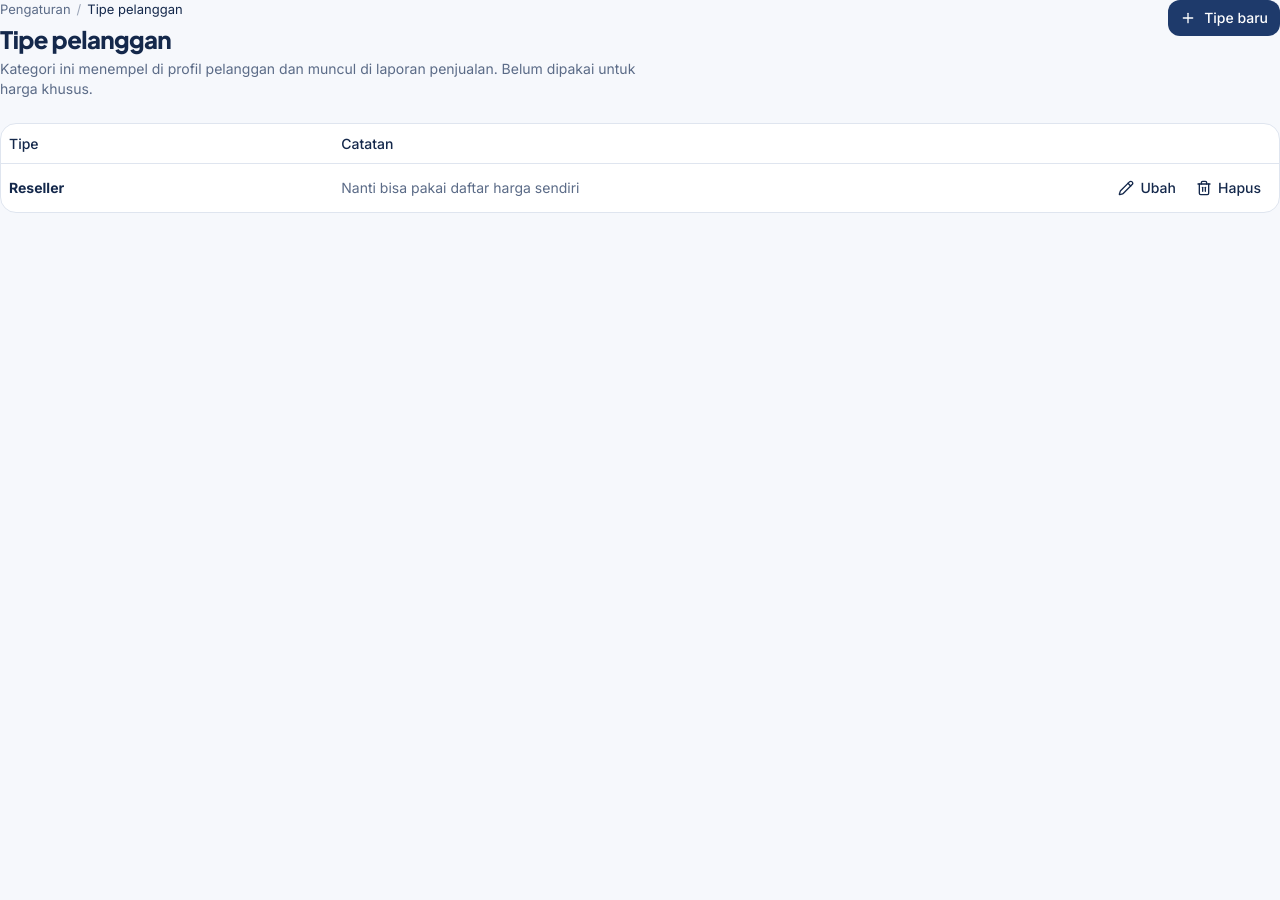
Scenario: CustomerTypesScreen › shows the API error and keeps the row when delete fails
Click the button with aria-label "Hapus Reseller" at coordinates (1228, 188), box [1186, 172, 1271, 204]
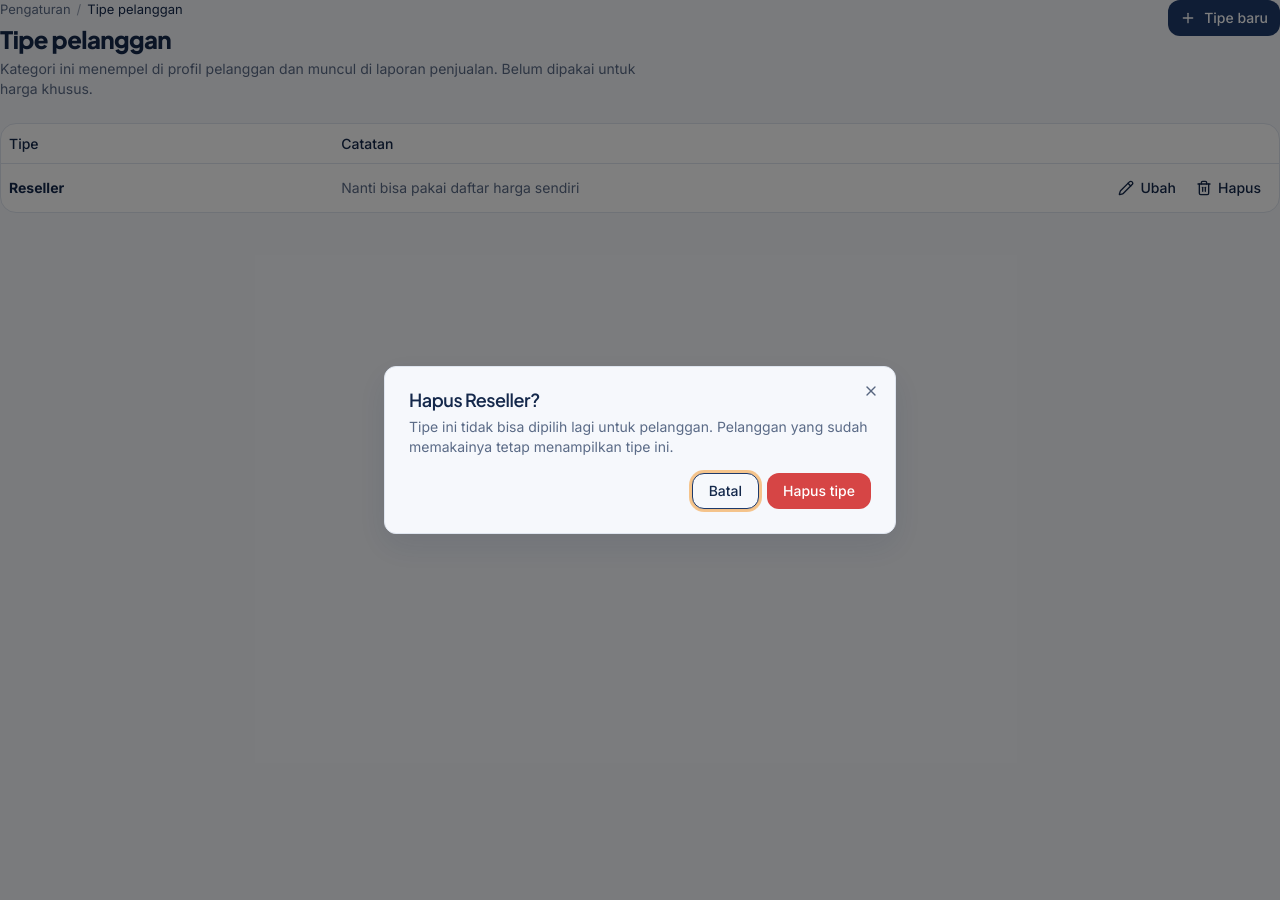
Click the button "Hapus tipe" at coordinates (819, 491), box [767, 473, 871, 509]
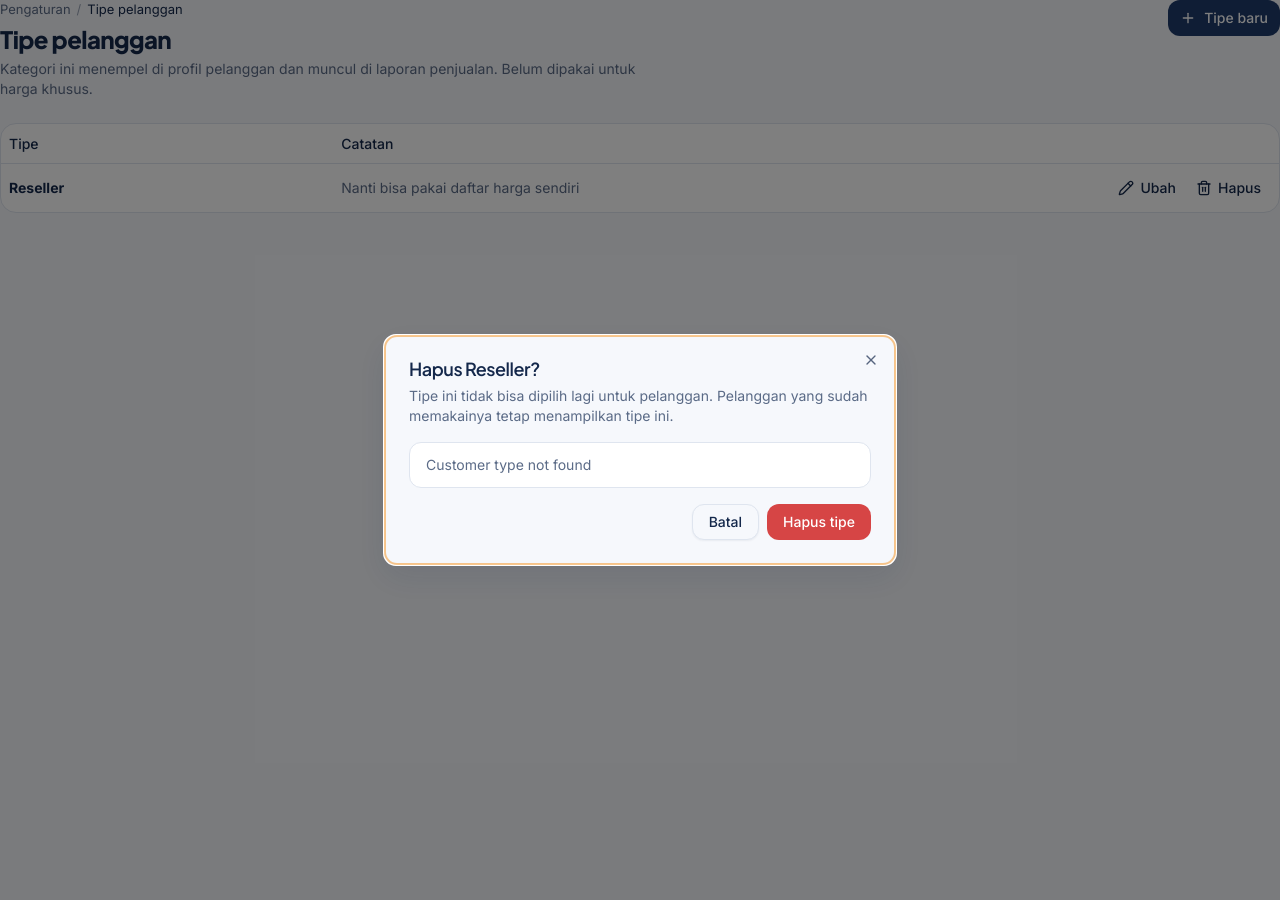
Expected: the text "Reseller" is shown, [1, 164, 333, 212]
Result: the text "Customer type not found" is shown at [426, 456, 591, 473]
